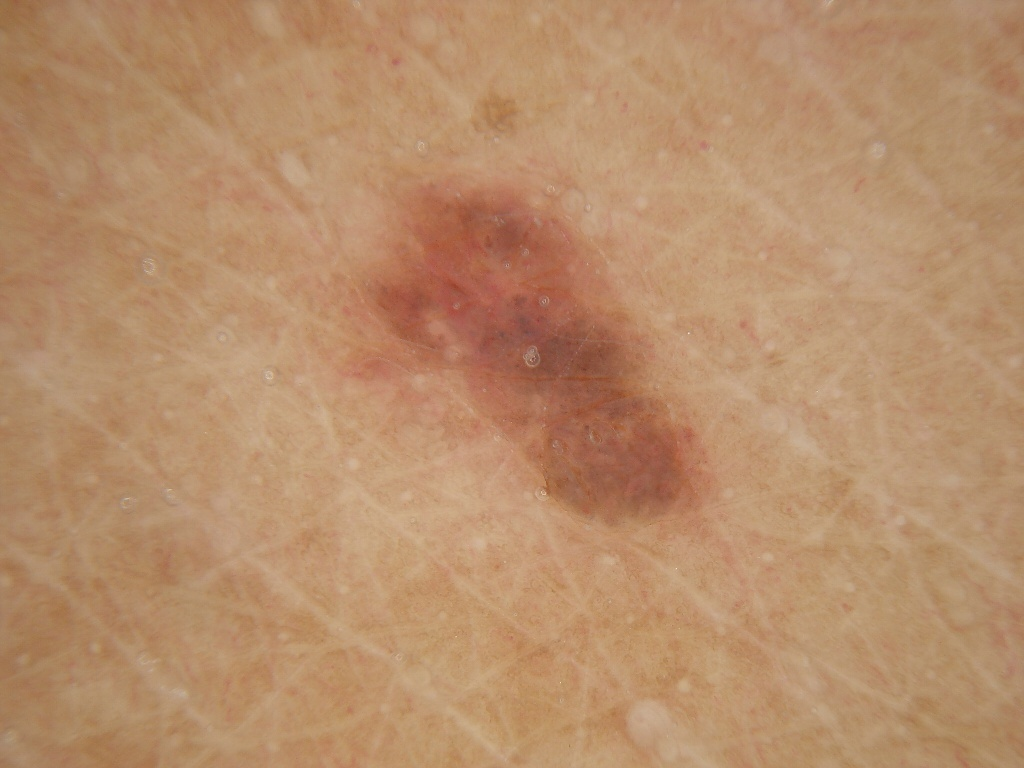Detected Lesion: (346, 133, 727, 532)
